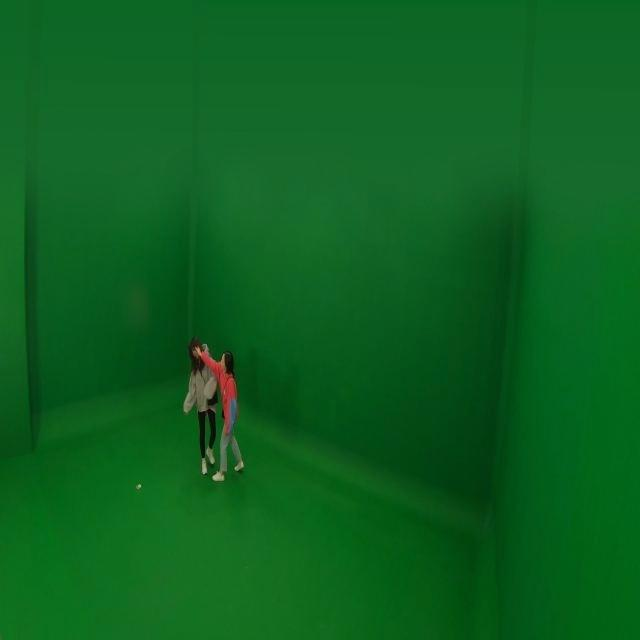fight: (181, 337, 245, 484)
